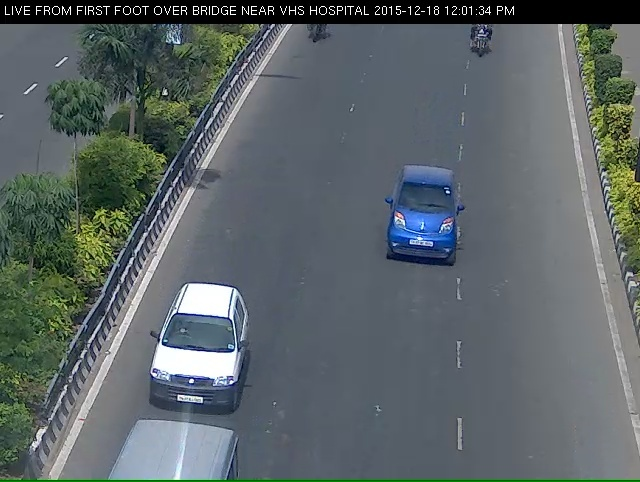Car: (132, 311, 244, 437), (378, 176, 462, 282)
Person: (459, 21, 499, 63), (289, 24, 328, 50)
